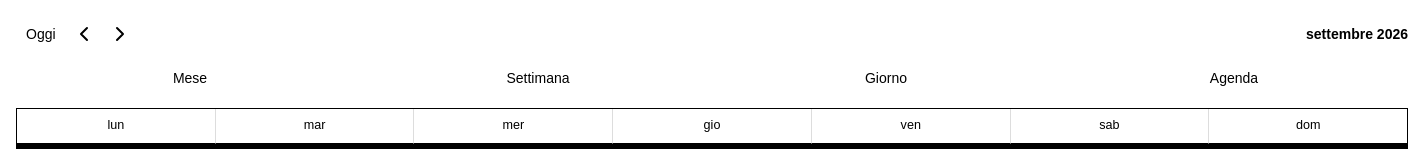
Test: InterventionsCalendar › Avanti, Indietro e Oggi cambiano il periodo mostrato nella barra
Check: the text "settembre 2026" is shown, box [1306,26,1408,42]
What coordinates should you click on to do the following:
click the 2nd button named "Avanti"
I would click on:
 (120, 34)
Its box is [102,16,138,52].
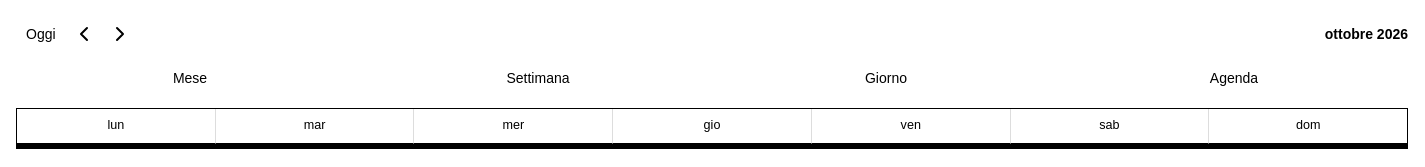
Check: the text "ottobre 2026" is shown, box [1325,26,1408,42]
What coordinates should you click on to do the following:
click the 2nd button named "Avanti"
I would click on:
 (120, 34)
Its box is [102,16,138,52].
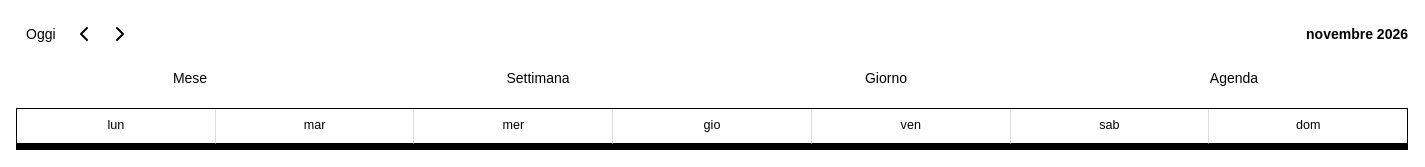
Check: the text "novembre 2026" is shown, box [1306,26,1408,42]
What coordinates should you click on to do the following:
click the 1st button named "Indietro"
I would click on:
 (84, 34)
Its box is [66,16,102,52].
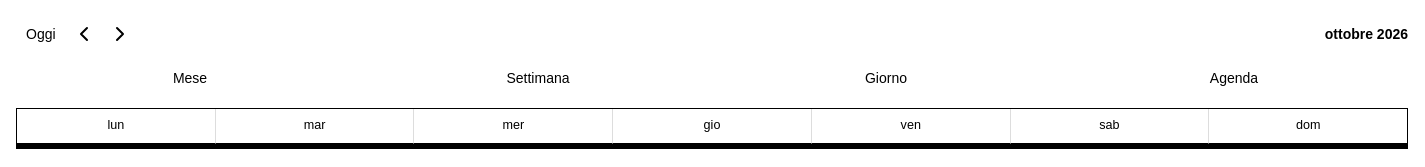
Check: the text "ottobre 2026" is shown, box [1325,26,1408,42]
What coordinates should you click on to do the following:
click the button "Oggi"
I would click on:
 (41, 34)
Its box is [16,16,66,52].
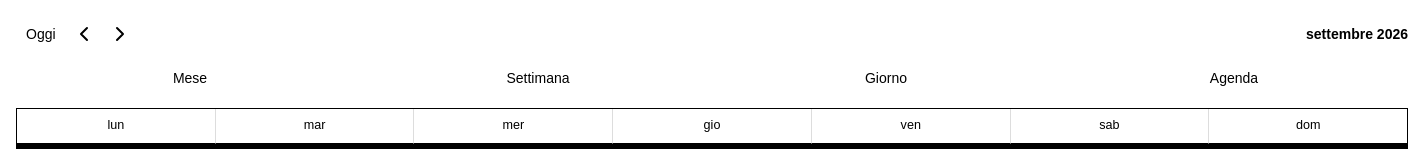
Check: the text "settembre 2026" is shown, box [1306,26,1408,42]
